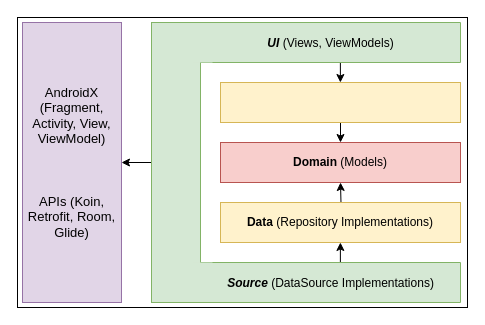
Image size: 485x325. Some labels were removed from this diagram. The centre of each missing label's shape, as x and y in pixels:
App: the point at 175,162
UseCase: the point at 340,102
